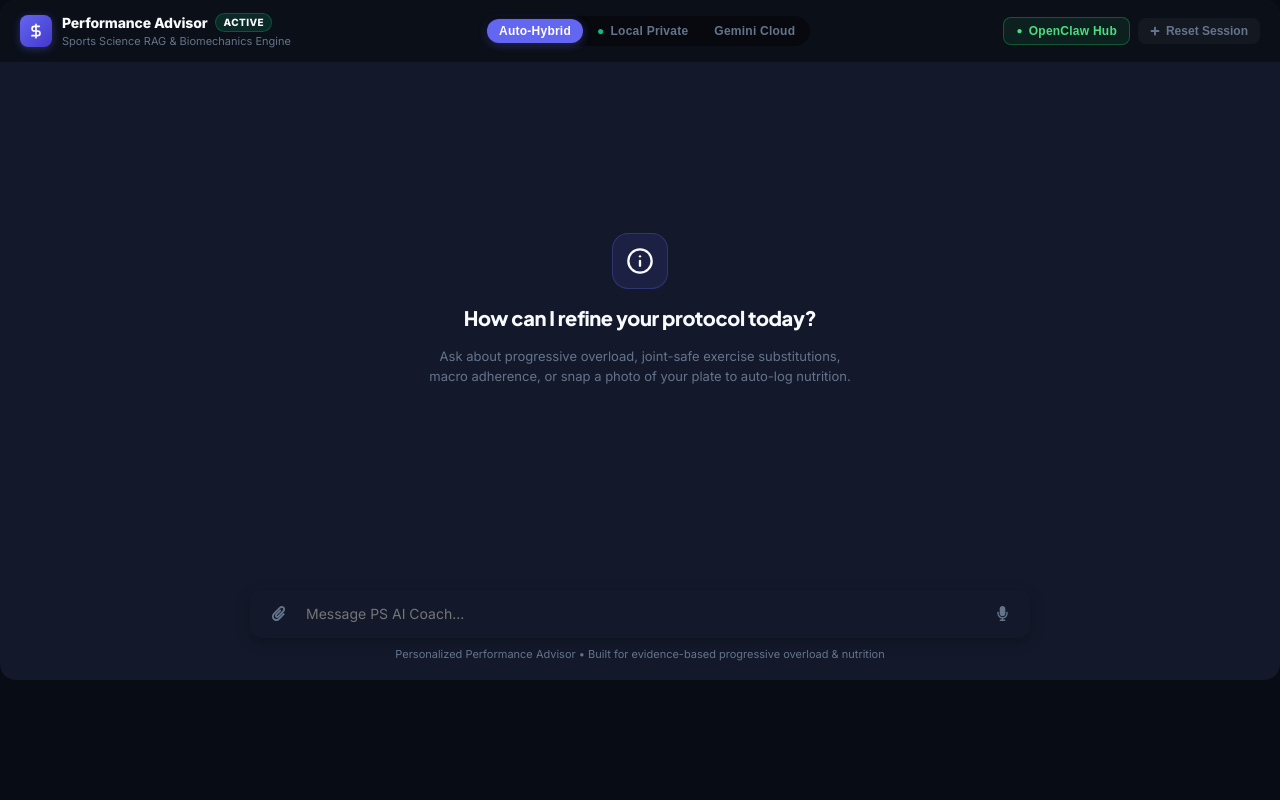
Test: PSAICoach Component › sends a user message and renders the assistant response
The width and height of the screenshot is (1280, 800).
Type "How should I progress my bench press?" into the field with placeholder "Message PS AI Coach..." at (640, 614), box left=302, top=599, right=978, bottom=628
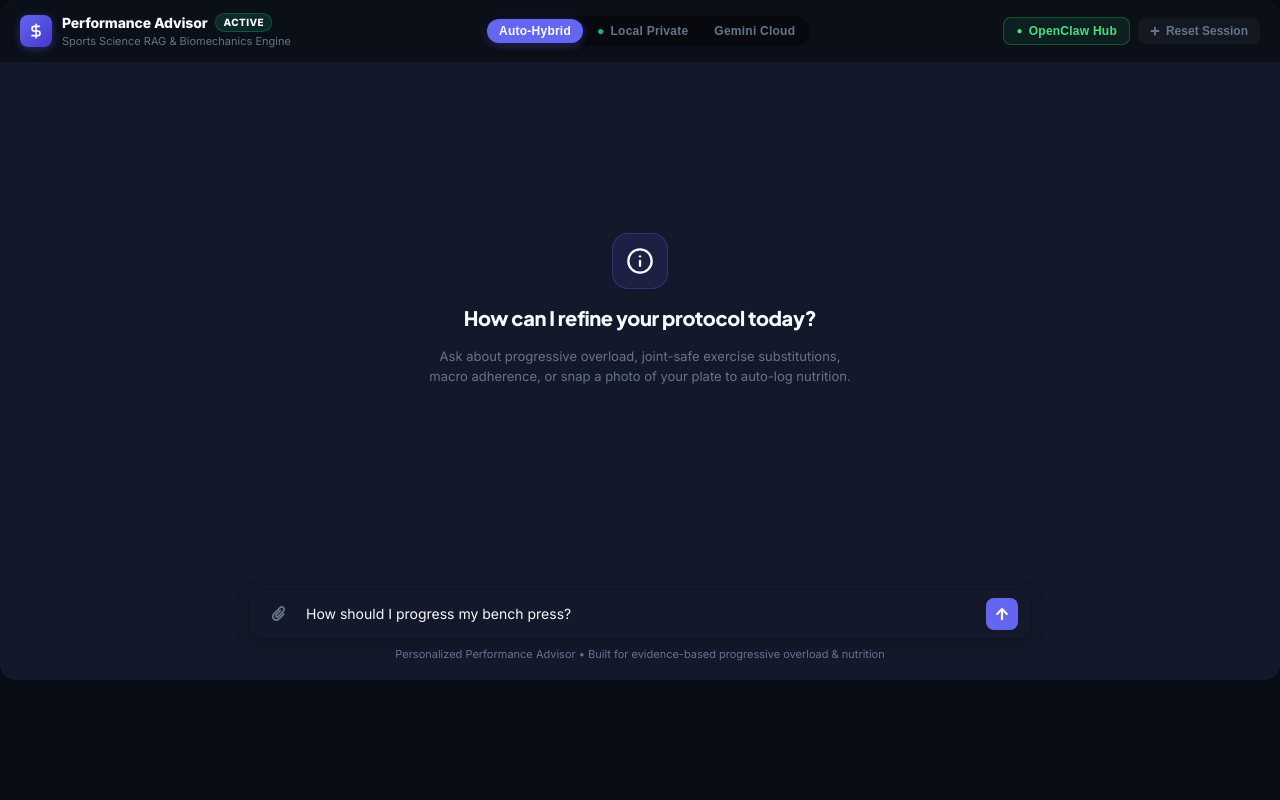
Press Enter in the field with placeholder "Message PS AI Coach...", box left=302, top=599, right=978, bottom=628
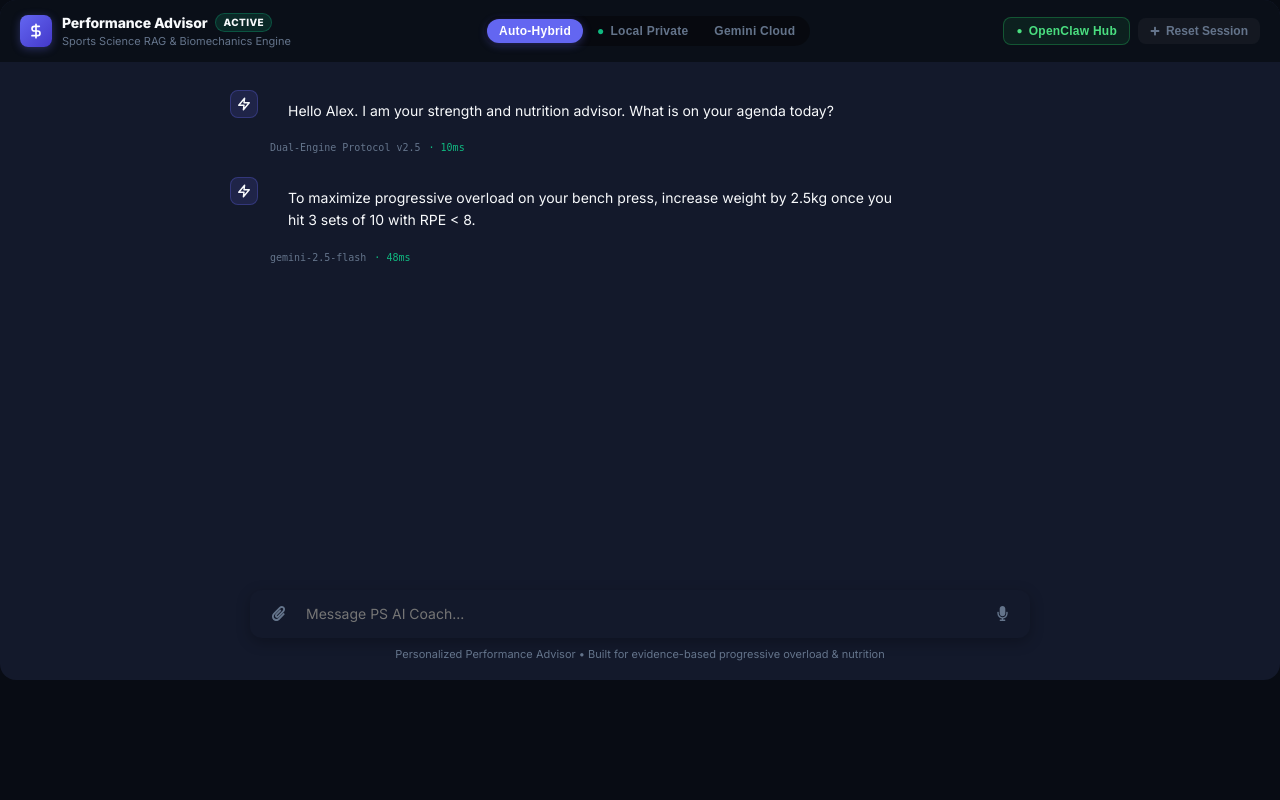
Expected: the text "How should I progress my bench press?" is shown, left=288, top=100, right=834, bottom=122
Expected: the text "maximize progressive overload on your bench press" is shown, left=288, top=189, right=896, bottom=228
